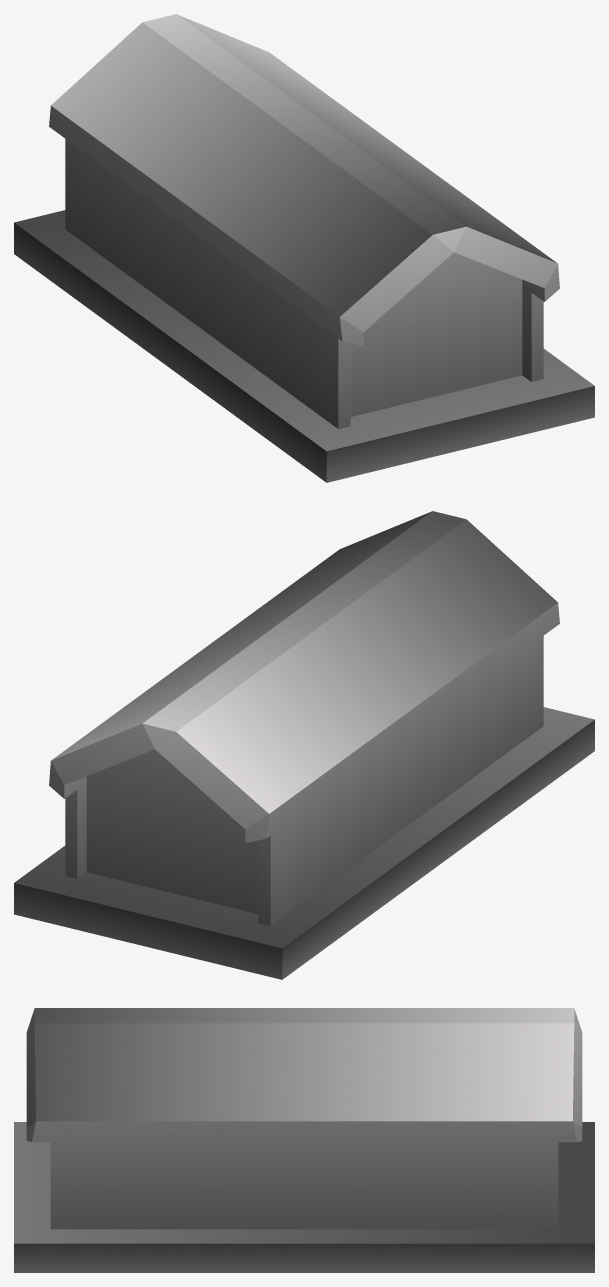
Rendered from Grave_5.fbx.
3 renders of one model, top to bottom at view 1: azimuth 30°, elevation 25°; view 2: azimuth 150°, elevation 25°; view 3: azimuth 270°, elevation 25°, orthographic. The views are drawn at different scales.
Visible parts, largest first — view 1: Cube.097, Cube.096; view 2: Cube.097, Cube.096; view 3: Cube.097, Cube.096.
Part boxes in pixels (x1=…): Cube.097: x1=49, y1=14, x2=559, y2=429; Cube.096: x1=14, y1=210, x2=594, y2=482; Cube.097: x1=49, y1=511, x2=559, y2=926; Cube.096: x1=14, y1=707, x2=594, y2=979; Cube.097: x1=26, y1=1008, x2=582, y2=1229; Cube.096: x1=14, y1=1122, x2=594, y2=1272.
Size of the model in its own units: 200 by 151 by 404.
1 material, 1 textured.
